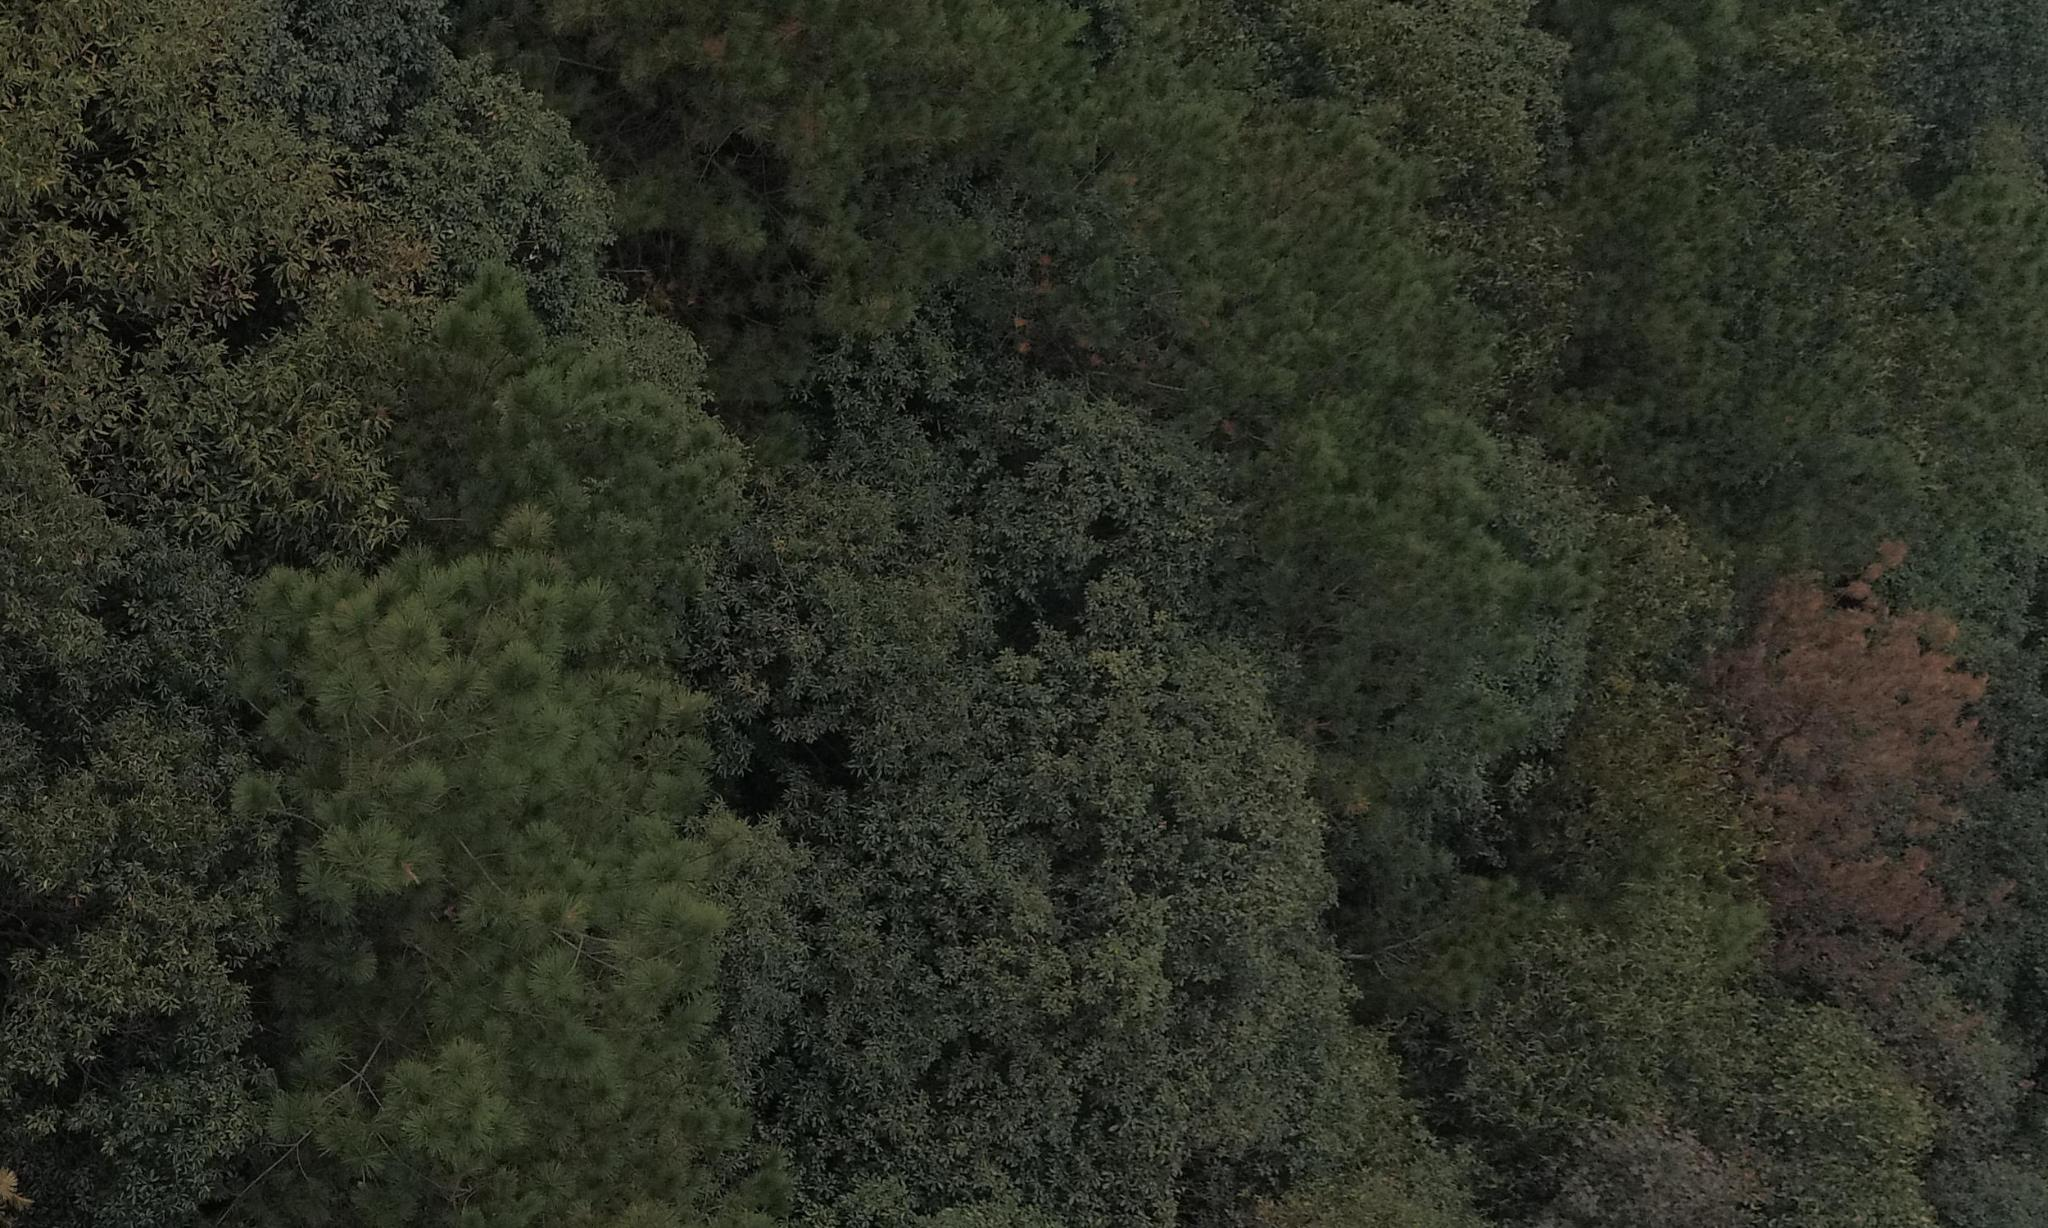heavy: (1671, 525, 2011, 984)
